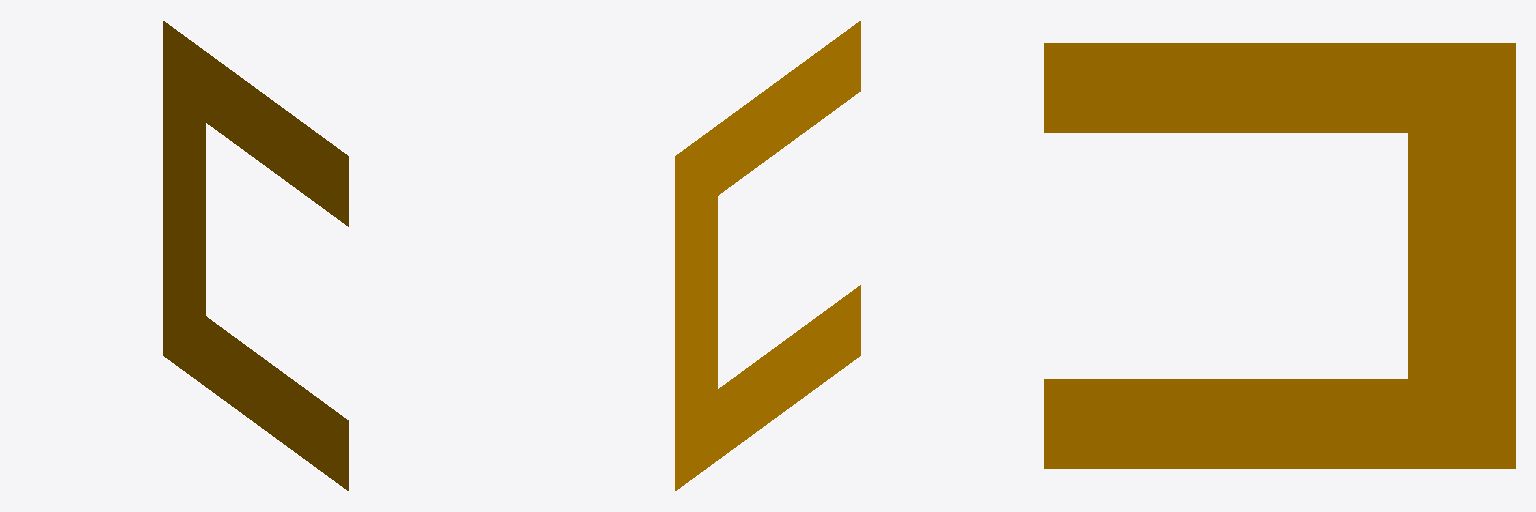
URDF robot description (plane):
<?xml version="1.0"?>
<robot name="plane">
    <link name="floor">
        <visual>
            <origin rpy="0 0 0" xyz="0 0 0"/>
            <geometry>
                <mesh filename="door.obj"/>
            </geometry>
        </visual>
        <collision>
            <origin rpy="0 0 0" xyz="0 0 0"/>
            <geometry>
                <mesh filename="door.obj"/>
            </geometry>
        </collision>

        <inertial>
          <mass value="0.0"/>
          <inertia ixx="0.0" ixy="0.0" ixz="0.0" iyy="0.0" iyz="0.0" izz="0.0"/>
        </inertial>
    </link>
</robot>

--- Facts derived from the render (not from the file) ---
Views: 3 orthographic renders of the robot side by side, from view 1: azimuth 30°, elevation 25°; view 2: azimuth 150°, elevation 25°; view 3: azimuth 270°, elevation 25°.
Robot: plane — 1 links, 0 joints (none); root link floor; default pose: every joint at zero.
Visible links, largest first — view 1: floor; view 2: floor; view 3: floor.
Boxes of the visible links, <box> form: floor: <box>163,21,348,490</box>; floor: <box>675,21,860,490</box>; floor: <box>1044,43,1515,468</box>.
Size in the robot's own frame: 0 by 2 by 2 metres.
1 mesh visuals loaded from 1 distinct referenced files (1 OBJ).